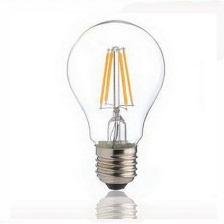light_bulb: (58, 15, 173, 193)
